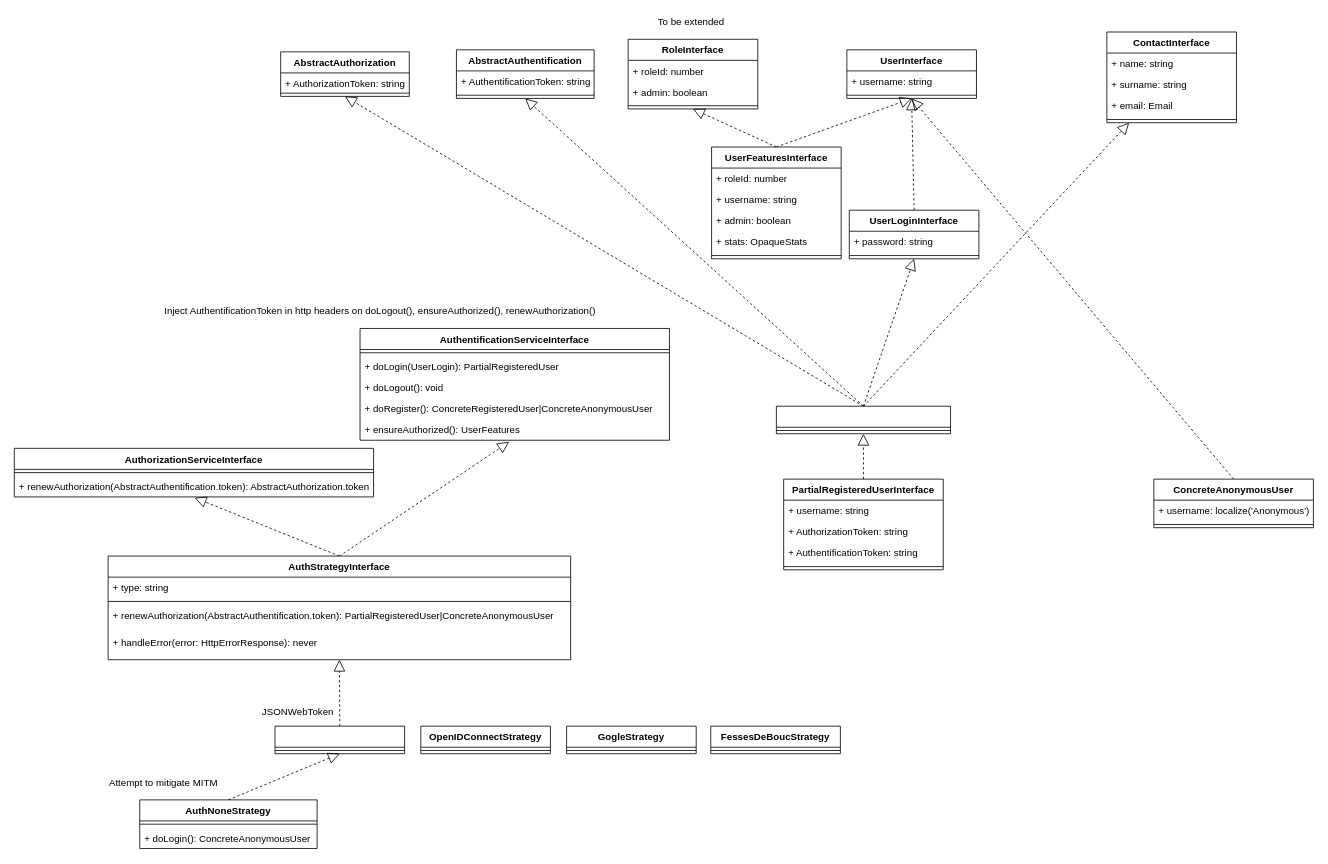
The diagram is 1328 pixels wide and 864 high, and some of its shapes have lost their labels. Each missing label, with the centre of its shape:
"AuthJWTStrategy" belongs at pixel 339 739.
"ConcreteRegisteredUserInterface" belongs at pixel 863 419.
